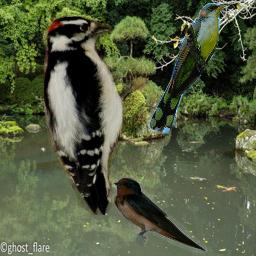Cuckoo: (150, 3, 230, 134)
Swallow: (111, 176, 208, 253)
Woodpecker: (44, 16, 147, 215)
